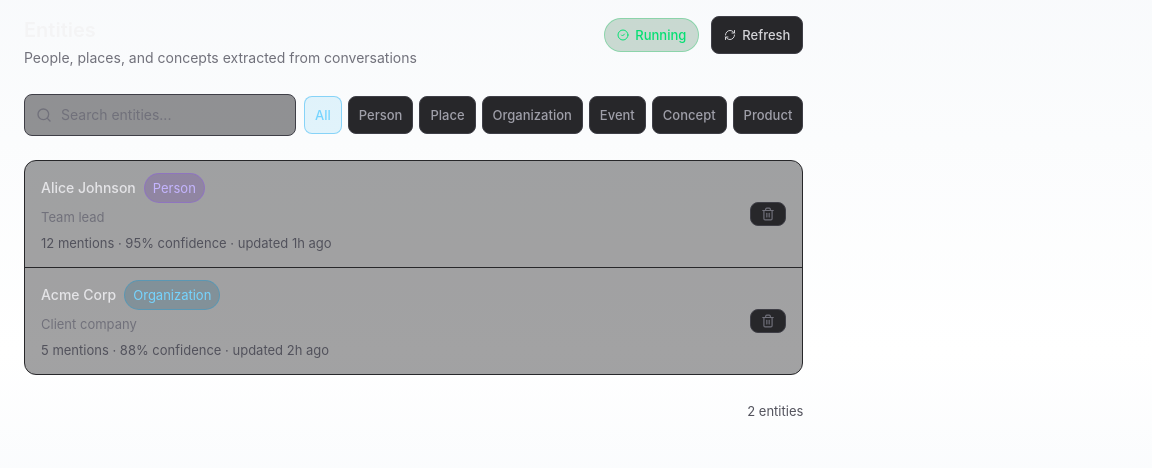
Test case: EntitiesPage › filters entities by type
Expected: the text "Alice Johnson" is shown, [41,176,136,200]
# Filter to organization
Click the button "organization".
click(532, 115)  # box [482,96,583,134]
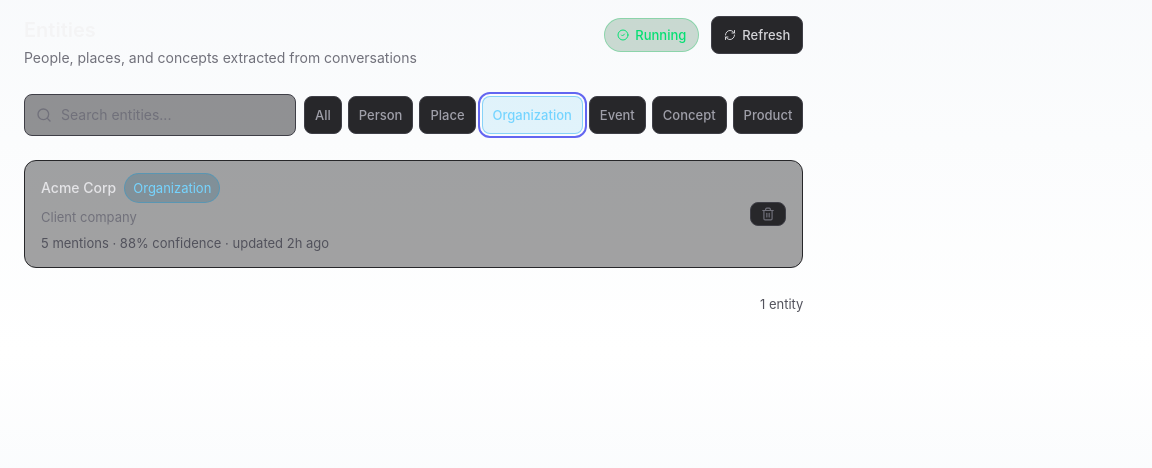
Expected: the text "Acme Corp" is shown, [41,176,116,200]
Now the text "Alice Johnson" is gone
